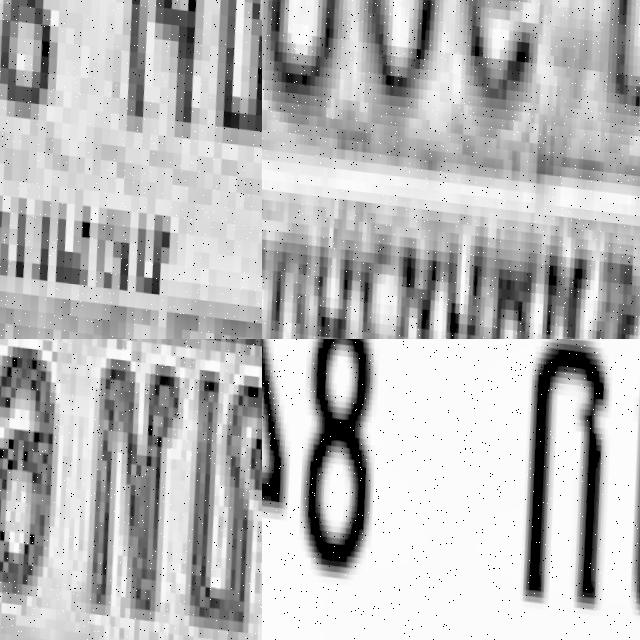license-plate: (262, 0, 640, 339), (262, 339, 640, 640), (0, 0, 262, 339), (0, 339, 262, 640)
